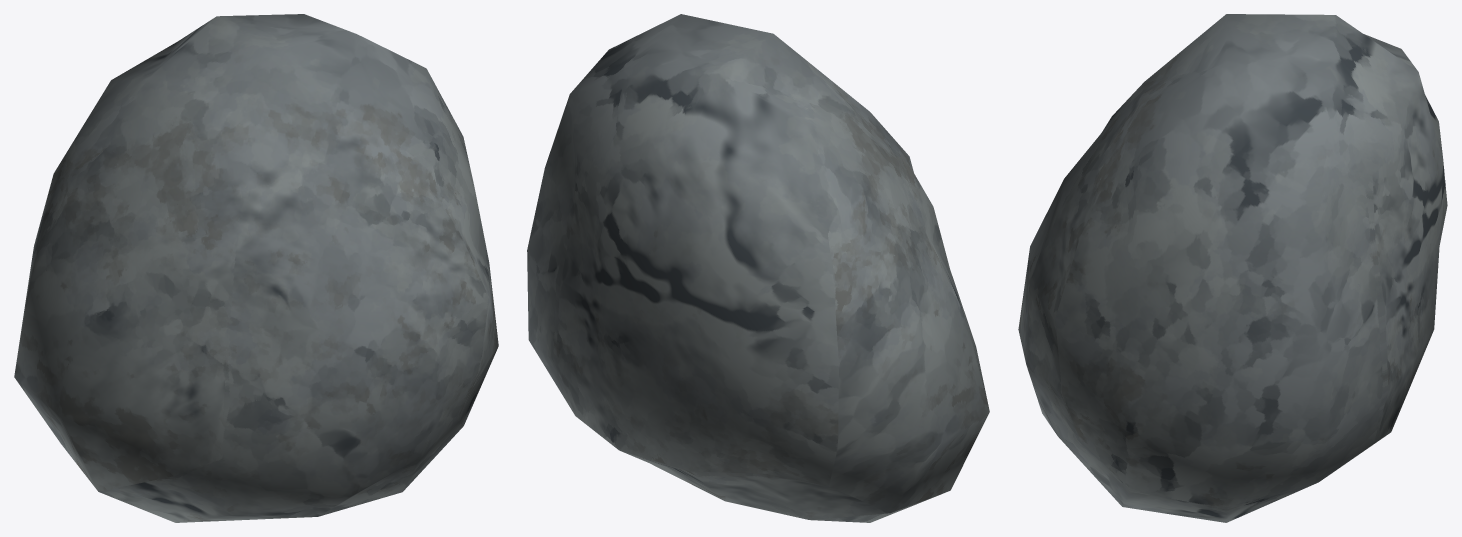
File: Rock1_Mid.fbx
3 renders of one model, left to right at view 1: azimuth 30°, elevation 25°; view 2: azimuth 150°, elevation 25°; view 3: azimuth 270°, elevation 25°, orthographic. The views are drawn at different scales.
Parts seen in each view (by area): view 1: Rock1.High.005; view 2: Rock1.High.005; view 3: Rock1.High.005.
Part boxes in pixels (left/top/right/bottom): Rock1.High.005: left=14, top=14, right=498, bottom=522; Rock1.High.005: left=527, top=14, right=989, bottom=522; Rock1.High.005: left=1018, top=14, right=1447, bottom=522.
Size of the model in its own units: 147 by 154 by 124.
